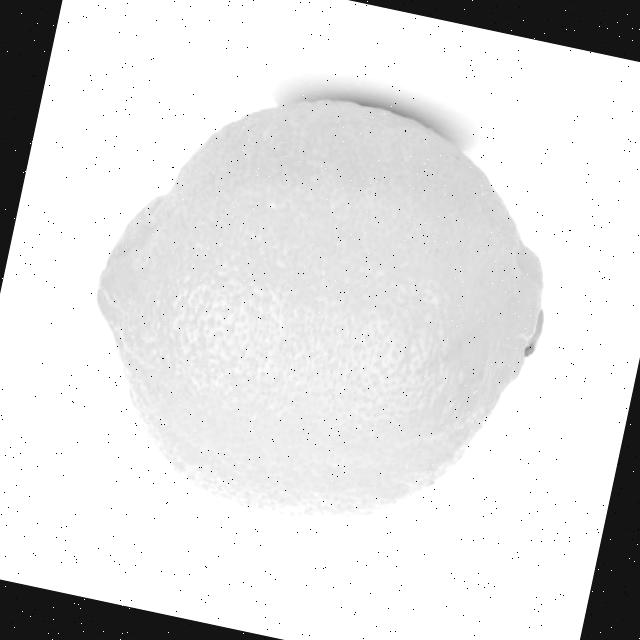Ripe: (50, 55, 582, 572)
